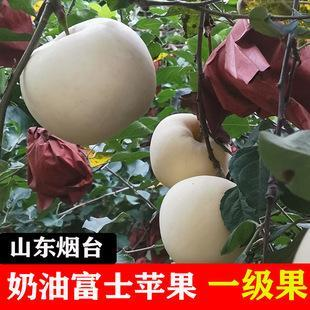apple: (18, 19, 154, 145), (158, 175, 244, 264), (149, 111, 227, 186)
